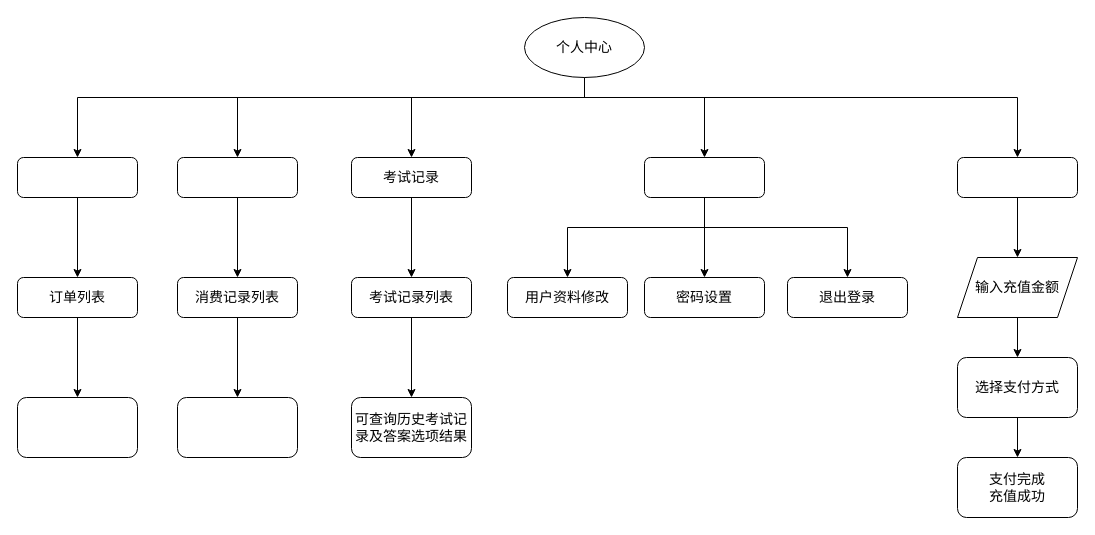
Image size: 1095x535. Some labels were removed from this diagram. Each missing label, with the centre of its shape:
"充值" goes at pixel 1017 177.
"可查询消费记录明细" goes at pixel 237 427.
"我的订单" goes at pixel 77 177.
"消费记录" goes at pixel 237 177.
"点击订单 可查看订单详情" goes at pixel 77 427.
"设置" goes at pixel 704 177.
